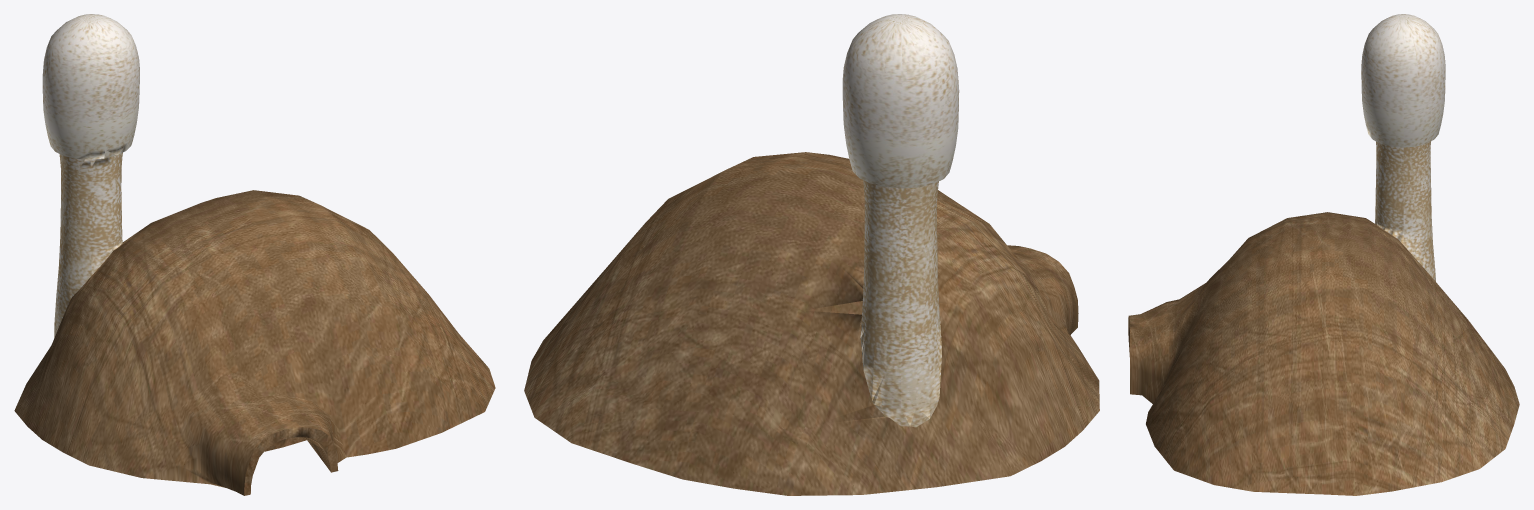
File: mainKopiec.FBX
3 views of the same model, side by side, from view 1: azimuth 30°, elevation 25°; view 2: azimuth 150°, elevation 25°; view 3: azimuth 270°, elevation 25° (orthographic). The views are drawn at different scales.
Visible parts, largest first — view 1: Plane001; view 2: Plane001; view 3: Plane001.
Boxes of the visible parts, x1,y1,x2,y2 form: Plane001: (14,14,495,495); Plane001: (524,14,1099,495); Plane001: (1128,14,1519,495).
Size of the model in its own units: 40.92 by 34.57 by 36.49.
Materials: 1 (1 with a texture image).
